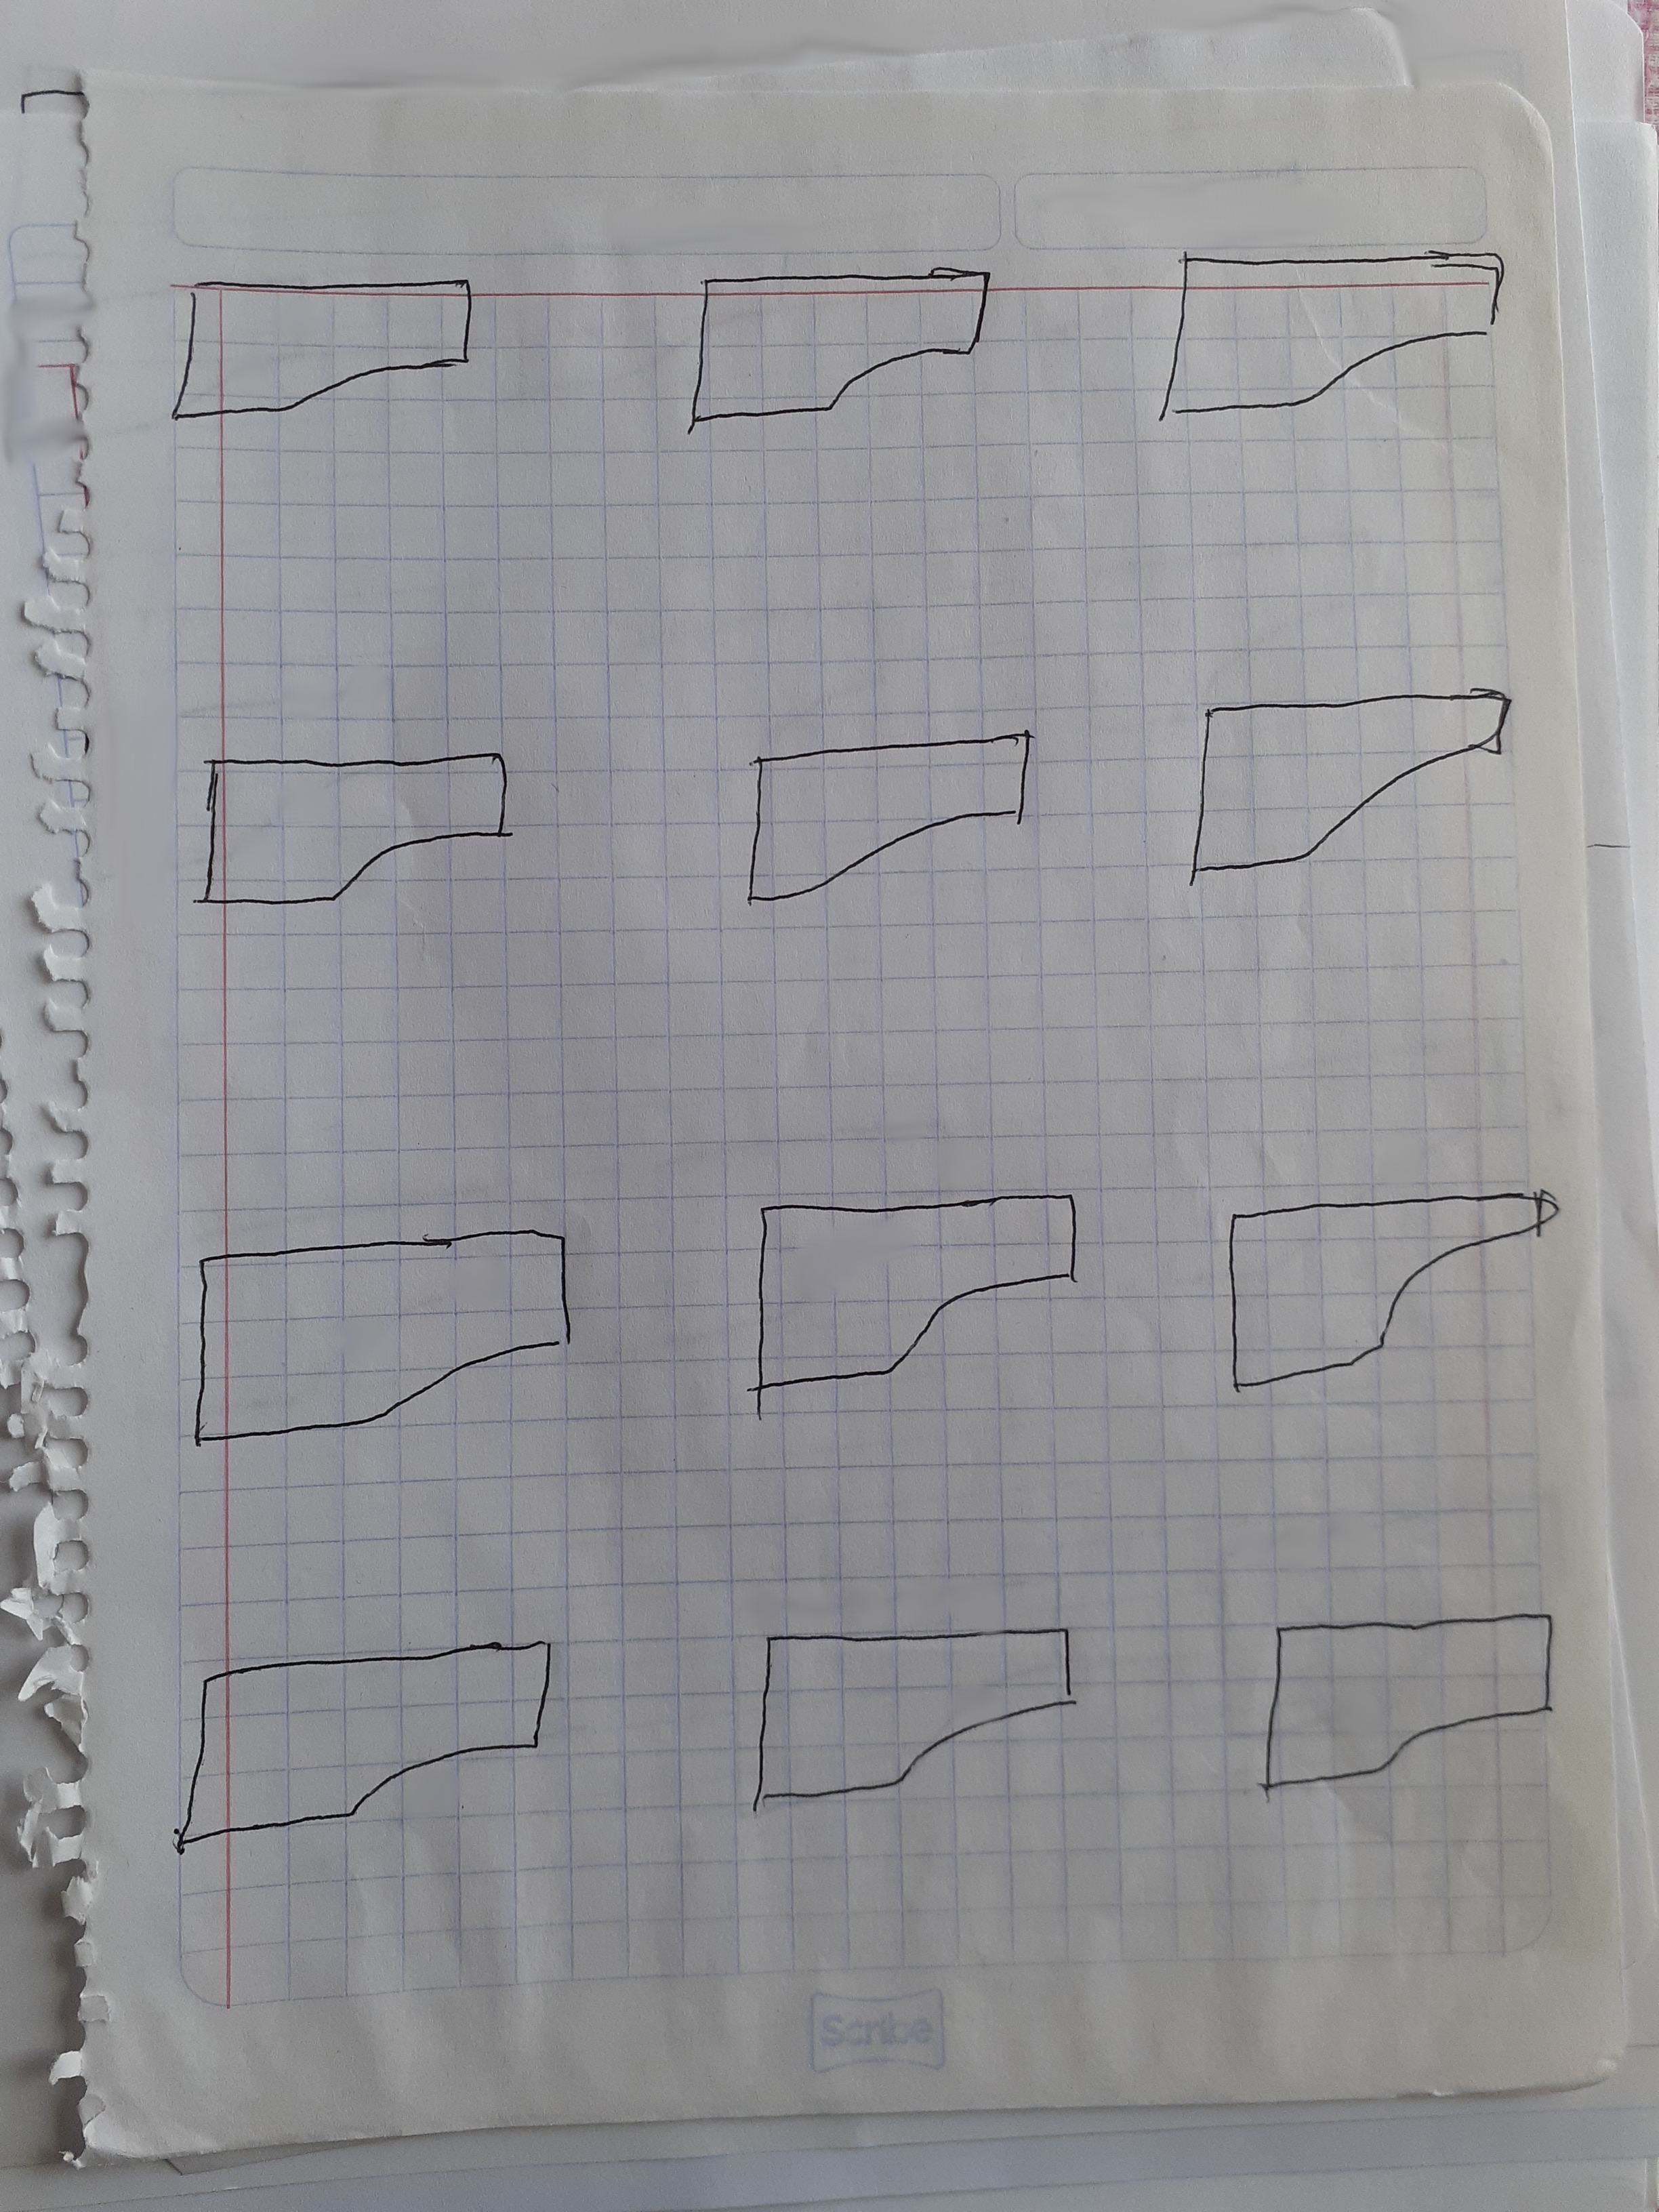print: (153, 1601, 603, 1930), (136, 1181, 603, 1489), (1180, 1167, 1579, 1461), (728, 1163, 1115, 1465), (1251, 1557, 1570, 1862), (1166, 662, 1553, 906), (725, 1604, 1101, 1838), (139, 253, 526, 479), (164, 705, 559, 927), (1140, 214, 1521, 435), (655, 253, 1021, 455), (716, 723, 1068, 916)
